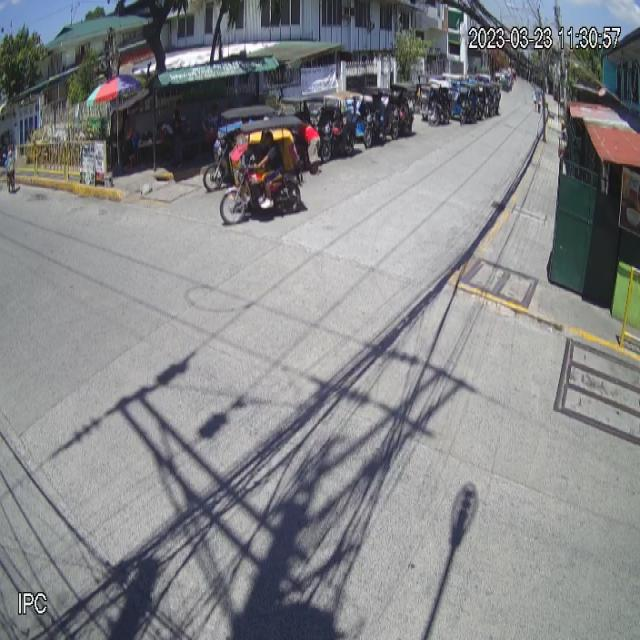Tricycle: (218, 116, 306, 228)
